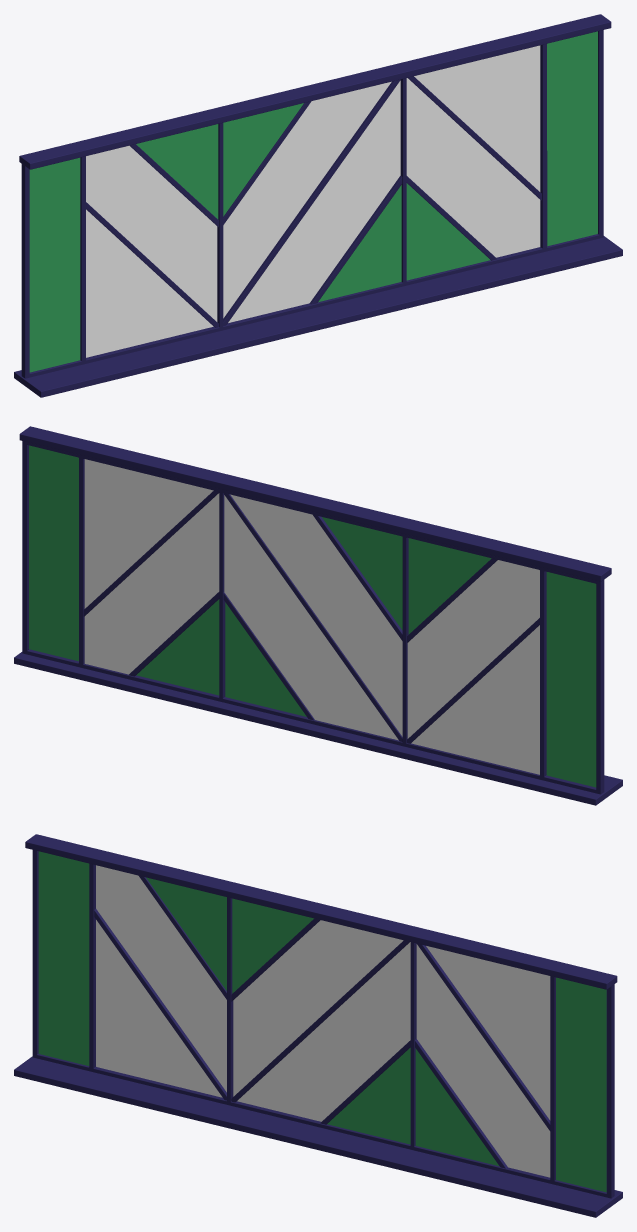
Rendered from PartitionDetail_01_Mesh.fbx.
3 views of the same model, one above another, from view 1: azimuth 30°, elevation 25°; view 2: azimuth 150°, elevation 25°; view 3: azimuth 330°, elevation 25° (orthographic).
Visible parts, largest first — view 1: PartitionDetail_01_Mesh; view 2: PartitionDetail_01_Mesh; view 3: PartitionDetail_01_Mesh.
Boxes of the visible parts, box(x1,y1,x2,y2) form: PartitionDetail_01_Mesh: box(14, 14, 622, 397); PartitionDetail_01_Mesh: box(14, 426, 622, 805); PartitionDetail_01_Mesh: box(14, 834, 622, 1217).
Size of the model in its own units: 776 by 288 by 62.75.
